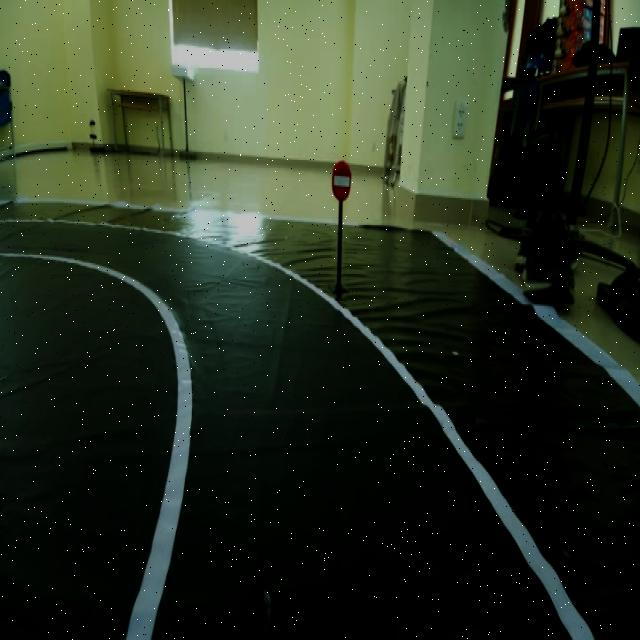no_entry: (323, 151, 362, 213)
